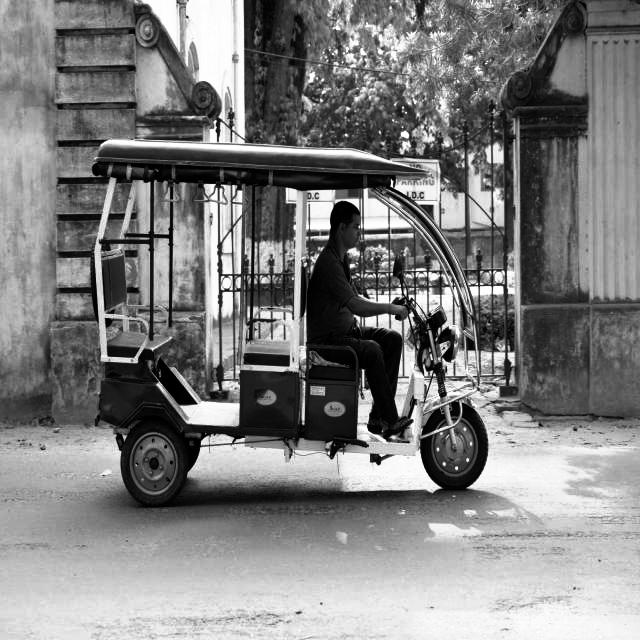Toto: (86, 132, 496, 500)
